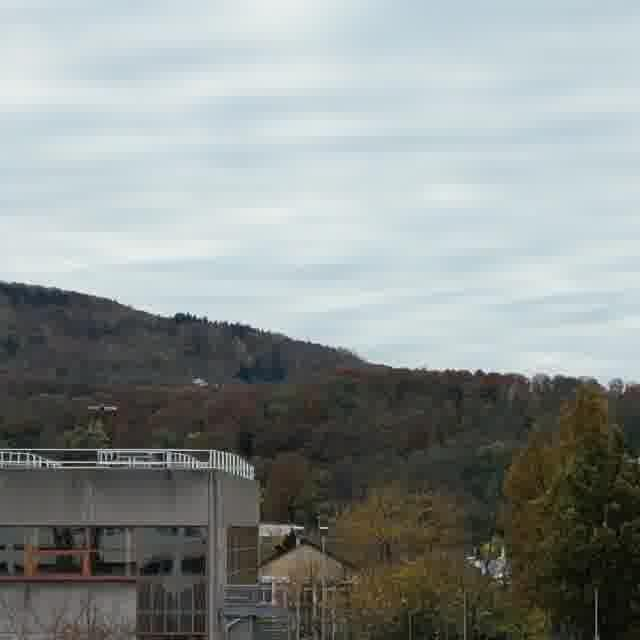Drohne: (89, 405, 117, 410)
